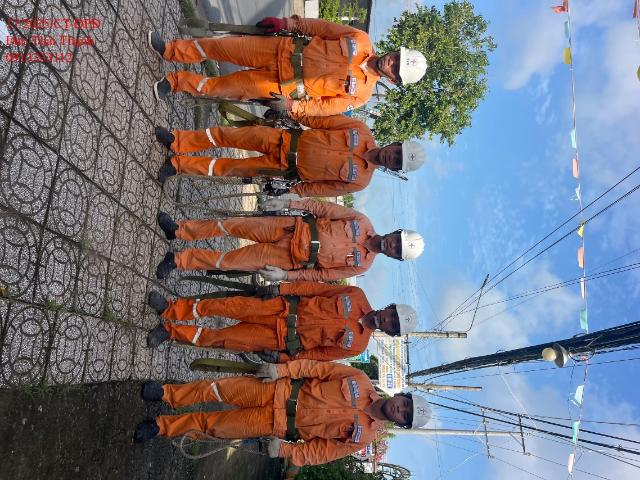gloves: (257, 10, 288, 37), (252, 362, 288, 384), (253, 284, 288, 302), (261, 260, 288, 282), (257, 196, 294, 211), (257, 348, 286, 366), (268, 433, 286, 459), (263, 182, 289, 199), (269, 92, 290, 109)
harness: (290, 31, 313, 108), (285, 376, 309, 443), (303, 213, 326, 275), (285, 294, 304, 356), (284, 125, 303, 187)
helmet: (392, 214, 431, 267), (395, 39, 428, 91), (393, 136, 430, 177), (406, 389, 437, 434), (394, 294, 424, 337)
shoes: (132, 410, 165, 446), (150, 156, 196, 181), (143, 319, 176, 352), (145, 26, 176, 59), (136, 376, 172, 401), (143, 291, 173, 319), (152, 250, 180, 278), (154, 123, 180, 152), (157, 210, 180, 242), (152, 74, 173, 104)
